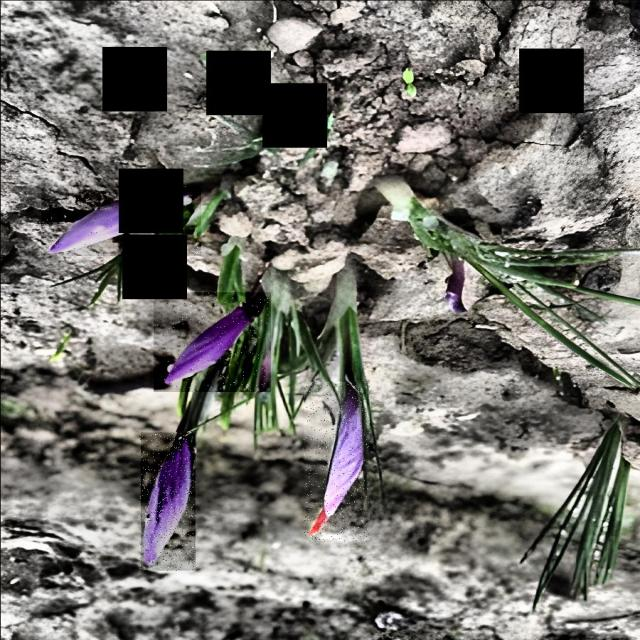Flower: (153, 291, 270, 391), (40, 183, 200, 255), (302, 380, 368, 540), (139, 431, 194, 570)
stigma: (308, 508, 342, 540)
